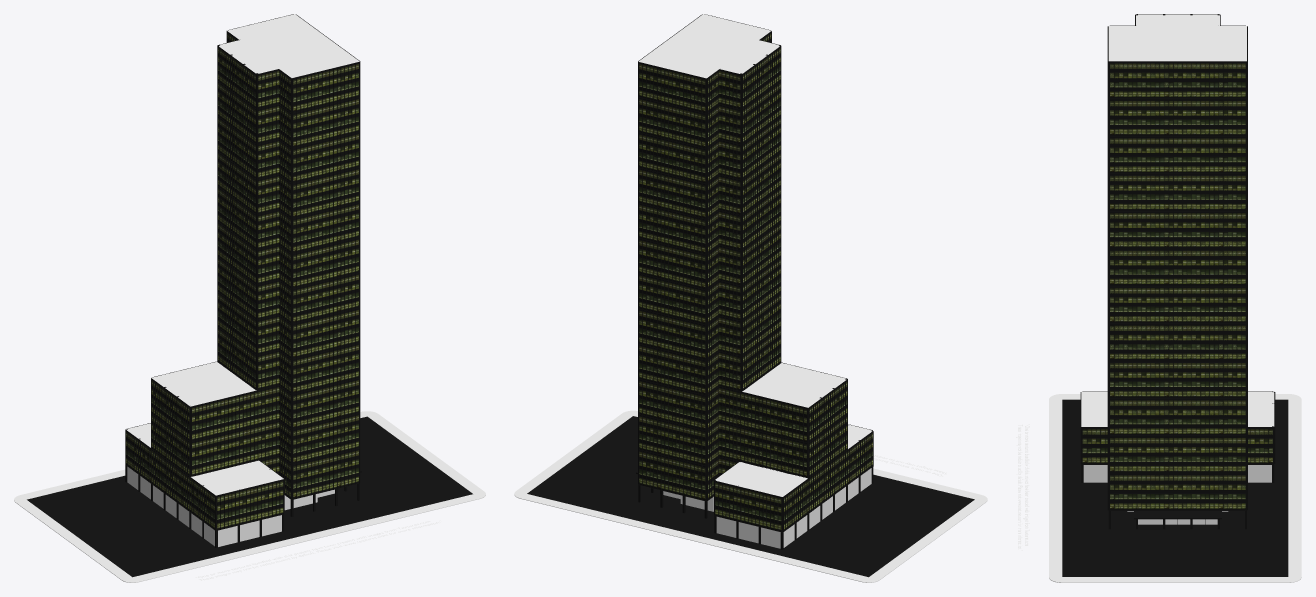
File: nyc-like_modern_building_n.00.glb
3 renders of one model, left to right at view 1: azimuth 30°, elevation 25°; view 2: azimuth 150°, elevation 25°; view 3: azimuth 270°, elevation 25°, orthographic. The views are drawn at different scales.
Visible parts, largest first — view 1: _VIDROS-FACH_6, _CAIXILHOS_1, _VIGAS_8, object 6, _ALVENARIA_0, object 3, _PILARES_4, _VIDROS-TRANSP_7, _GUIA_3, Text.001_12; view 2: _VIDROS-FACH_6, _CAIXILHOS_1, _VIGAS_8, object 6, _ALVENARIA_0, object 3, _PILARES_4, _VIDROS-TRANSP_7, _GUIA_3; view 3: _VIDROS-FACH_6, _VIGAS_8, object 6, _CAIXILHOS_1, _ALVENARIA_0, object 3, _PILARES_4, _VIDROS-TRANSP_7, Text.001_12, _GUIA_3.
Part boxes in pixels (<box>): _VIDROS-FACH_6: <box>126,33,358,528</box>; _CAIXILHOS_1: <box>125,15,360,530</box>; _VIGAS_8: <box>126,14,359,530</box>; object 6: <box>27,416,472,577</box>; _ALVENARIA_0: <box>126,14,359,510</box>; object 3: <box>14,411,485,582</box>; _PILARES_4: <box>125,45,361,547</box>; _VIDROS-TRANSP_7: <box>127,466,334,546</box>; _GUIA_3: <box>14,411,485,582</box>; Text.001_12: <box>195,520,440,580</box>; _VIDROS-FACH_6: <box>639,33,872,530</box>; _CAIXILHOS_1: <box>638,17,873,531</box>; _VIGAS_8: <box>638,14,872,531</box>; object 6: <box>527,416,974,577</box>; _ALVENARIA_0: <box>638,14,872,511</box>; object 3: <box>514,411,987,582</box>; _PILARES_4: <box>636,45,873,549</box>; _VIDROS-TRANSP_7: <box>663,468,871,548</box>; _GUIA_3: <box>514,410,987,582</box>; _VIDROS-FACH_6: <box>1082,63,1272,508</box>; _VIGAS_8: <box>1083,14,1272,510</box>; object 6: <box>1062,399,1288,576</box>; _CAIXILHOS_1: <box>1080,14,1275,524</box>; _ALVENARIA_0: <box>1081,14,1274,511</box>; object 3: <box>1049,394,1300,582</box>; _PILARES_4: <box>1081,14,1274,529</box>; _VIDROS-TRANSP_7: <box>1083,465,1271,524</box>; Text.001_12: <box>1016,424,1029,550</box>; _GUIA_3: <box>1049,394,1301,582</box>.
Size of the model in its own units: 138 by 160 by 88.4.
Materials: 4 (1 with a texture image).
